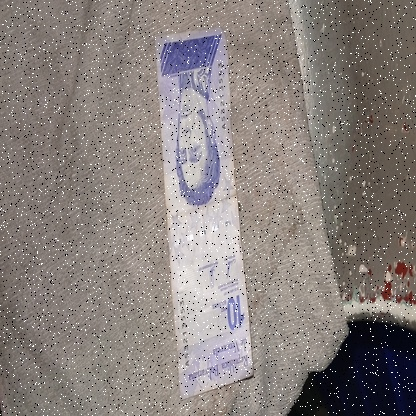ten-front-vef: (153, 29, 252, 399)
